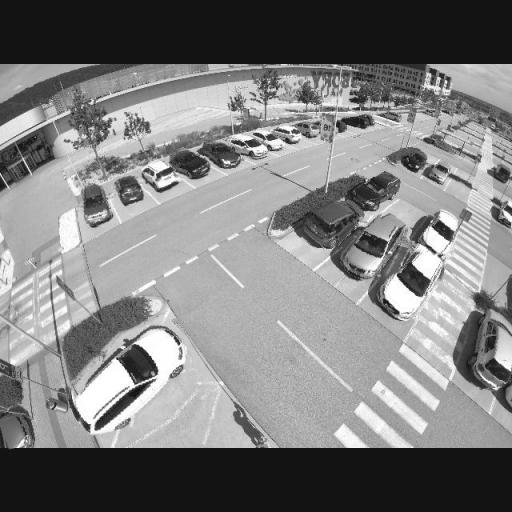busy: (66, 323, 200, 432), (374, 239, 445, 321), (337, 212, 410, 280), (466, 304, 510, 389), (301, 200, 361, 248), (346, 172, 401, 210), (415, 214, 457, 256), (78, 184, 116, 227), (140, 158, 180, 194), (0, 405, 32, 449), (226, 132, 268, 162), (170, 150, 212, 180), (199, 141, 241, 169), (110, 174, 146, 206), (247, 129, 284, 151), (396, 149, 426, 174), (270, 124, 303, 146), (340, 114, 372, 132), (424, 163, 450, 184), (295, 121, 324, 138), (496, 202, 510, 232)
free: (380, 204, 428, 228), (480, 269, 510, 302), (444, 182, 466, 198)
